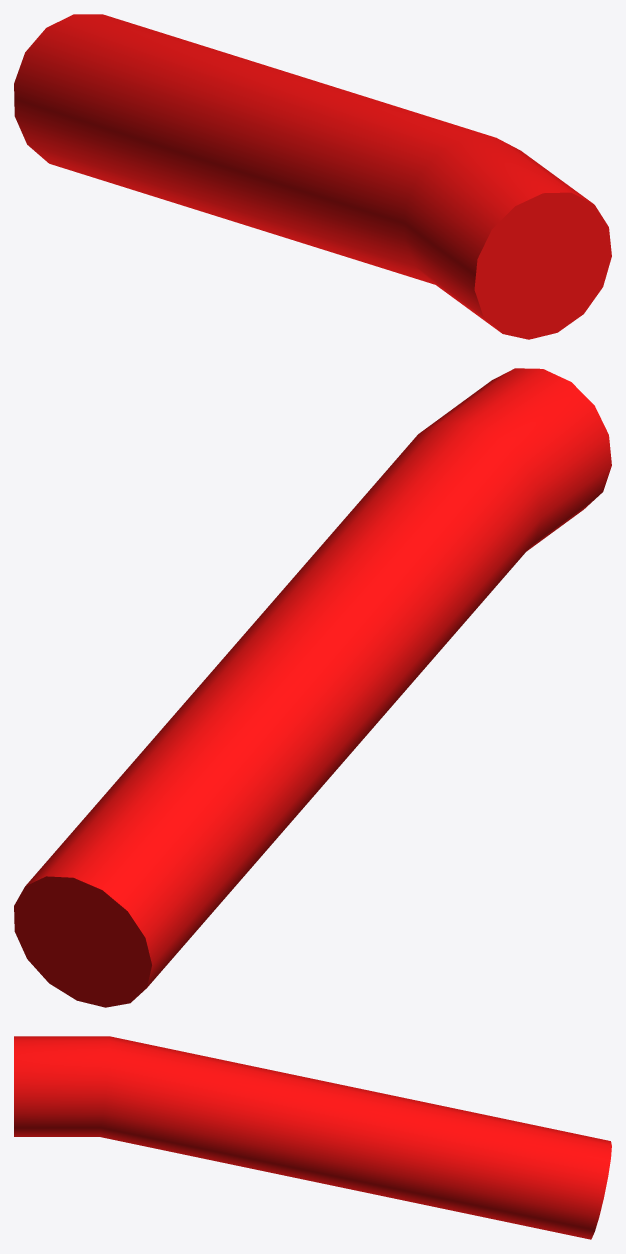
File: RoundRailSmallTakeoff.FBX
3 renders of one model, top to bottom at view 1: azimuth 30°, elevation 25°; view 2: azimuth 150°, elevation 25°; view 3: azimuth 270°, elevation 25°, orthographic. The views are drawn at different scales.
Parts seen in each view (by area): view 1: RailBigTakeoff; view 2: RailBigTakeoff; view 3: RailBigTakeoff.
Part boxes in pixels (x1=…): RailBigTakeoff: x1=14, y1=14, x2=611, y2=339; RailBigTakeoff: x1=14, y1=368, x2=611, y2=1007; RailBigTakeoff: x1=14, y1=1036, x2=611, y2=1239.
Size of the model in its own units: 0.6719 by 1.42 by 3.98.
